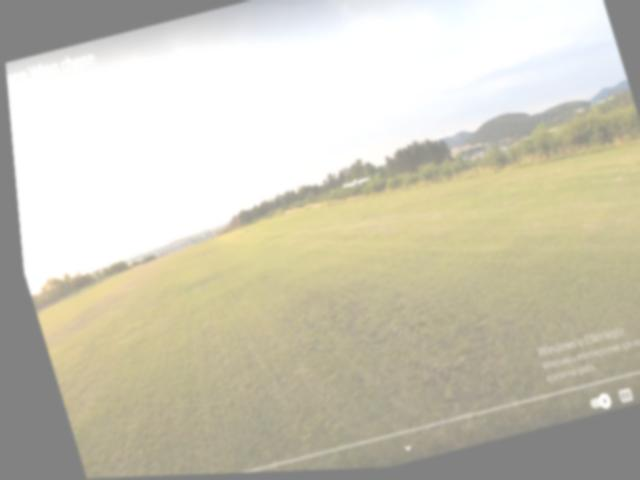plane: (336, 178, 367, 198)
